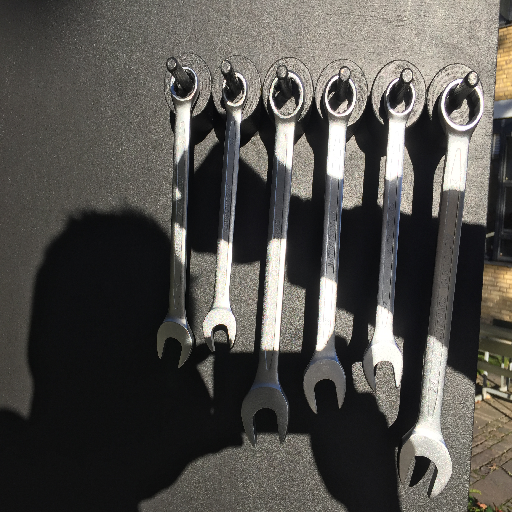bottom: (396, 418, 453, 501), (239, 381, 289, 448), (300, 352, 347, 414), (362, 338, 403, 395), (155, 316, 195, 371), (202, 305, 238, 353)
top: (437, 78, 485, 133), (267, 71, 305, 120), (322, 73, 357, 119), (383, 77, 415, 119), (220, 69, 250, 111), (168, 65, 200, 103)
